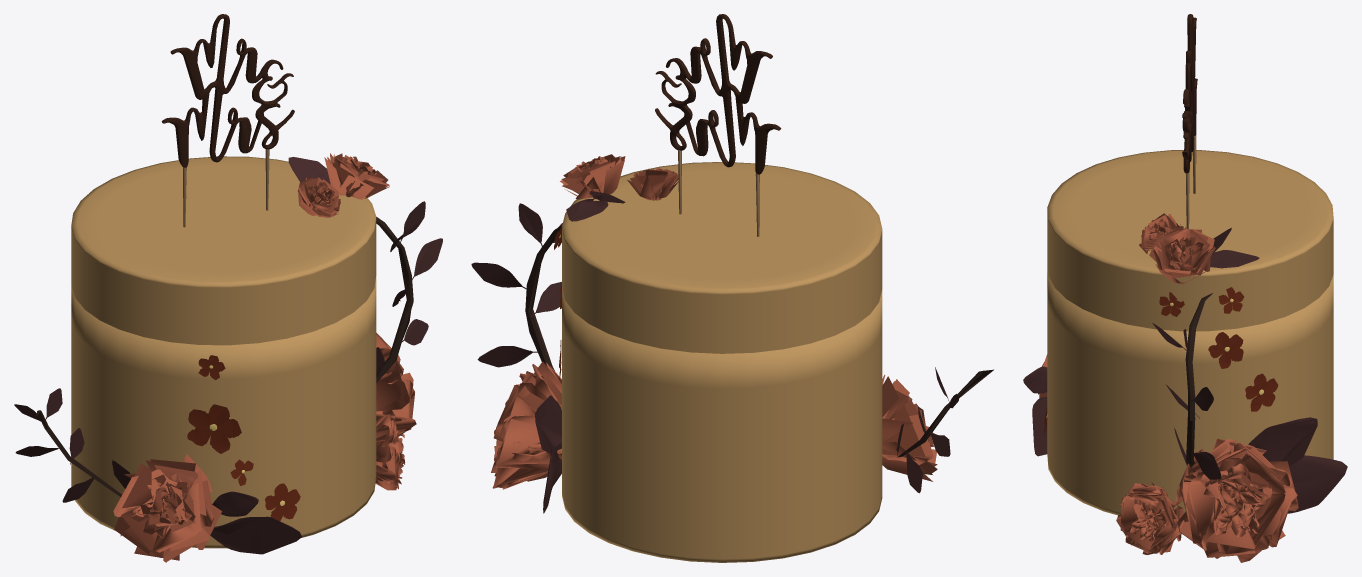
Rendered from 1-tier-caramel-roses-mrms.glb.
3 views of the same model, side by side, from view 1: azimuth 30°, elevation 25°; view 2: azimuth 150°, elevation 25°; view 3: azimuth 270°, elevation 25° (orthographic). The views are drawn at different scales.
Parts seen in each view (by area): view 1: Cylinder.019, grid.039, mrms.001, Plane.083, Plane.074, Plane.075, grid.038, grid.041, grid.033, Sphere.050, grid.035, Sphere.054 (+2 smaller); view 2: Cylinder.019, mrms.001, grid.038, Plane.083, grid.039, grid.041, Plane.075, Plane.079, grid.035, Plane.086; view 3: Cylinder.019, grid.038, grid.033, grid.041, Plane.083, mrms.001, Plane.080, Plane.079, Sphere.057, Sphere.059, Plane.074, grid.035 (+3 smaller).
Boxes of the visible parts, x1=… form: Cylinder.019: x1=71, y1=156, x2=376, y2=548; grid.039: x1=113, y1=454, x2=221, y2=562; mrms.001: x1=161, y1=14, x2=294, y2=227; Plane.083: x1=376, y1=201, x2=442, y2=382; Plane.074: x1=210, y1=516, x2=301, y2=554; Plane.075: x1=14, y1=388, x2=130, y2=502; grid.038: x1=376, y1=333, x2=416, y2=437; grid.041: x1=324, y1=153, x2=389, y2=199; grid.033: x1=375, y1=414, x2=405, y2=490; Sphere.050: x1=187, y1=404, x2=241, y2=453; grid.035: x1=298, y1=177, x2=340, y2=217; Sphere.054: x1=265, y1=483, x2=300, y2=520; Cylinder.019: x1=562, y1=162, x2=882, y2=562; mrms.001: x1=655, y1=14, x2=781, y2=236; grid.038: x1=491, y1=361, x2=561, y2=489; Plane.083: x1=471, y1=203, x2=562, y2=370; grid.039: x1=882, y1=374, x2=937, y2=481; grid.041: x1=560, y1=154, x2=625, y2=199; Plane.075: x1=896, y1=367, x2=993, y2=493; Plane.079: x1=535, y1=395, x2=561, y2=453; grid.035: x1=627, y1=167, x2=678, y2=200; Plane.086: x1=566, y1=199, x2=608, y2=221; Cylinder.019: x1=1047, y1=150, x2=1333, y2=515; grid.038: x1=1176, y1=438, x2=1298, y2=562; grid.033: x1=1116, y1=482, x2=1183, y2=554; grid.041: x1=1149, y1=226, x2=1215, y2=284; Plane.083: x1=1152, y1=293, x2=1221, y2=479; mrms.001: x1=1182, y1=14, x2=1197, y2=228; Plane.080: x1=1287, y1=455, x2=1347, y2=513; Plane.079: x1=1248, y1=417, x2=1317, y2=466; Sphere.057: x1=1208, y1=332, x2=1243, y2=368; Sphere.059: x1=1245, y1=373, x2=1278, y2=411; Plane.074: x1=1032, y1=397, x2=1047, y2=456; grid.035: x1=1139, y1=213, x2=1180, y2=253.
Size of the model in its own units: 4.49 by 4.63 by 2.9.
